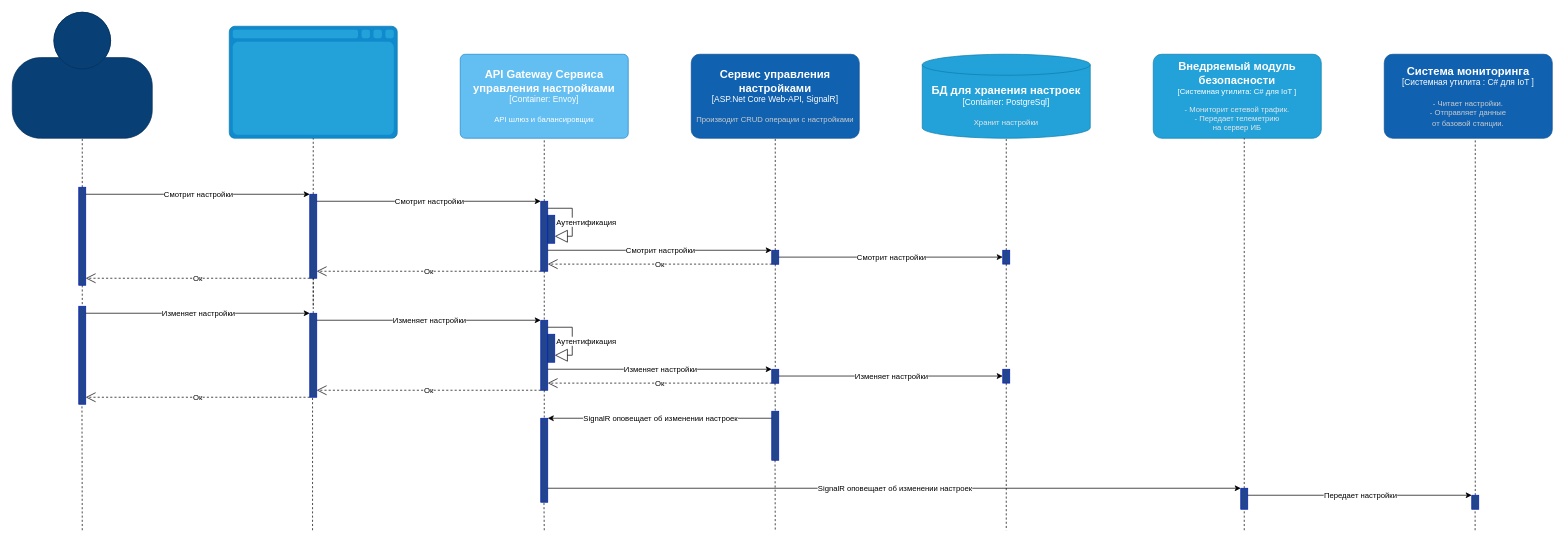
Image size: 1565x543. Some labels were removed from this diagram. The box of each missing label's shape, as (x1, y1, x2, y2) in pixels:
Cистемный администратор [Person] Вносит настройки.: (12, 12, 152, 138)
SPA Системного администратора [Управлениe настройками]: (229, 26, 397, 138)
